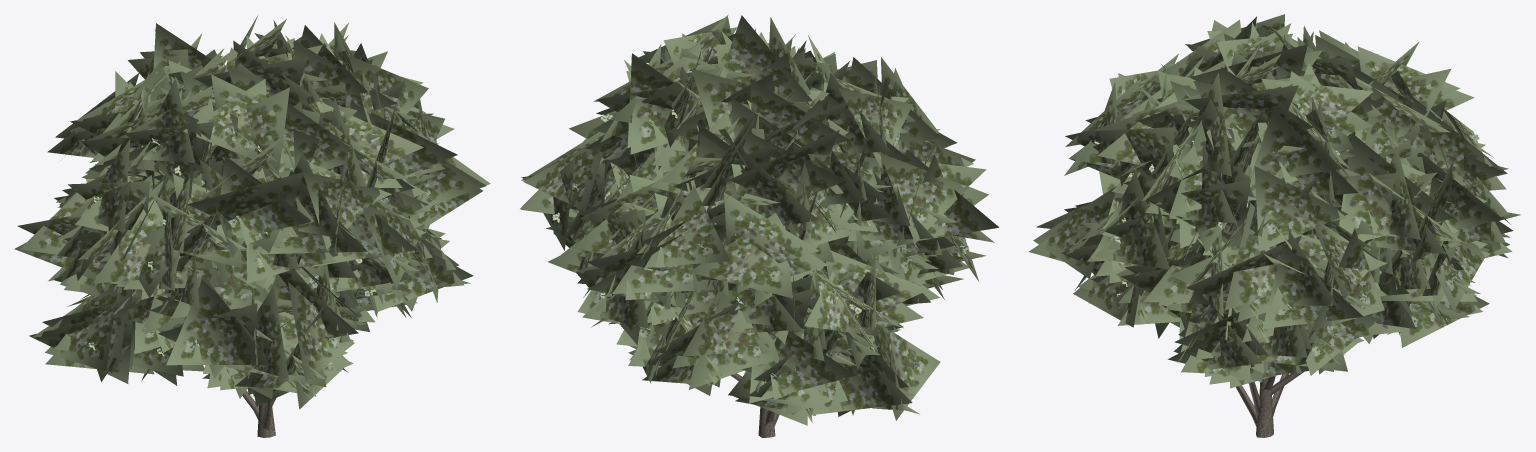
The model's file is Crataegus_Monogyna_Spring_Adult.glb.
The picture shows the model from 3 angles, left to right: view 1: azimuth 30°, elevation 25°; view 2: azimuth 150°, elevation 25°; view 3: azimuth 270°, elevation 25°; orthographic projection. The views are drawn at different scales.
Visible parts, largest first — view 1: Crataegus_Monogyna_Spring_Adult__LOD3; view 2: Crataegus_Monogyna_Spring_Adult__LOD3; view 3: Crataegus_Monogyna_Spring_Adult__LOD3.
Part boxes in pixels (x1,y1,x2,y2): Crataegus_Monogyna_Spring_Adult__LOD3: [14, 15, 490, 437]; Crataegus_Monogyna_Spring_Adult__LOD3: [520, 14, 999, 437]; Crataegus_Monogyna_Spring_Adult__LOD3: [1028, 14, 1520, 437].
Size of the model in its own units: 7.18 by 6.71 by 7.11.
Materials: 3 (3 with a texture image).
